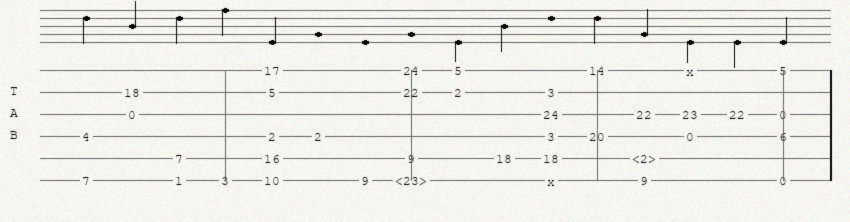0: (128, 108, 140, 120), (686, 130, 698, 142), (779, 174, 791, 186), (779, 108, 791, 120)
1: (175, 174, 187, 186)
10: (264, 174, 284, 186)
14: (589, 64, 609, 76)
16: (264, 152, 284, 164)
17: (264, 64, 284, 76)
18: (124, 86, 144, 98), (496, 152, 516, 164), (543, 152, 563, 164)
2: (268, 130, 280, 142), (314, 130, 326, 142), (454, 86, 466, 98)
20: (589, 130, 609, 142)
22: (403, 86, 423, 98), (636, 108, 656, 120), (729, 108, 749, 120)
23: (682, 108, 702, 120)
24: (403, 64, 423, 76), (543, 108, 563, 120)
3: (221, 174, 233, 186), (547, 86, 559, 98), (547, 130, 559, 142)
4: (82, 130, 94, 142)
5: (268, 86, 280, 98), (454, 64, 466, 76), (779, 64, 791, 76)
6: (779, 130, 791, 142)
7: (82, 174, 94, 186), (175, 152, 187, 164)
9: (361, 174, 373, 186), (407, 152, 419, 164), (640, 174, 652, 186)
harmonic: (395, 174, 431, 187), (632, 152, 660, 165)
x: (547, 175, 559, 185), (686, 65, 698, 75)
